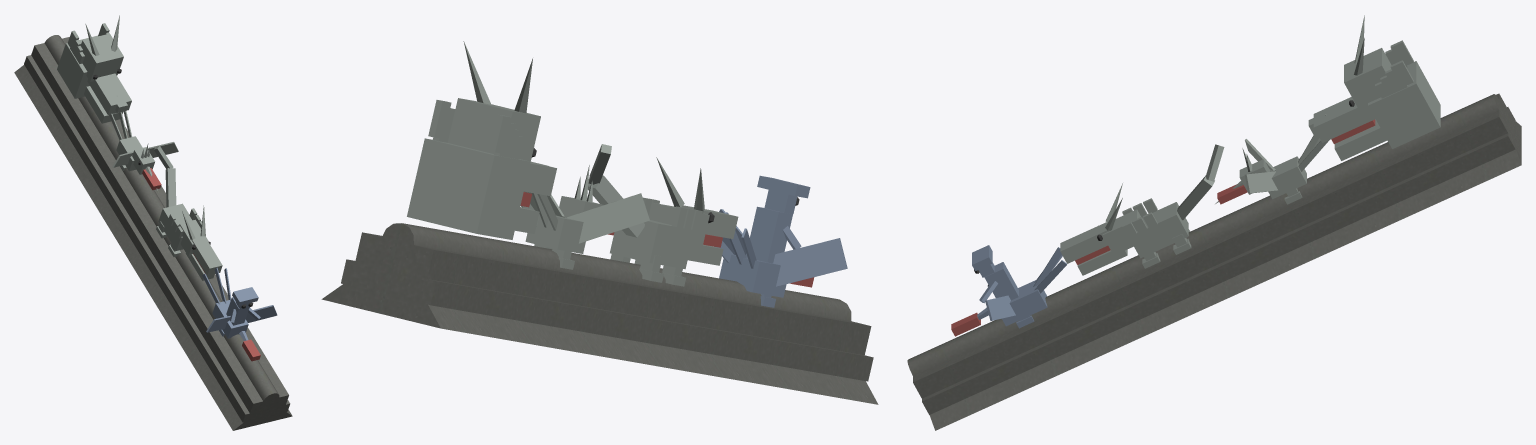
The model's file is ji-chuiji-zoushou.glb.
3 views of the same model, side by side, from view 1: azimuth 30°, elevation 25°; view 2: azimuth 150°, elevation 25°; view 3: azimuth 270°, elevation 25° (orthographic). The views are drawn at different scales.
Visible parts, largest first — view 1: chuiji, chuishou, zoushou_long, zoushou_xian, zoushou_feng, shou_mouth; view 2: chuiji, chuishou, zoushou_long, zoushou_xian, zoushou_feng; view 3: chuiji, chuishou, zoushou_long, zoushou_xian, zoushou_feng, shou_mouth.
Boxes of the visible parts, <box> form: chuiji: <box>14,35,292,430</box>; chuishou: <box>57,15,131,123</box>; zoushou_long: <box>153,145,222,280</box>; zoushou_xian: <box>202,267,277,340</box>; zoushou_feng: <box>109,95,178,192</box>; shou_mouth: <box>142,168,260,361</box>; chuiji: <box>321,223,878,404</box>; chuishou: <box>407,41,556,239</box>; zoushou_long: <box>588,144,738,286</box>; zoushou_xian: <box>714,175,847,307</box>; zoushou_feng: <box>521,165,649,269</box>; chuiji: <box>907,93,1521,430</box>; chuishou: <box>1308,15,1440,160</box>; zoushou_long: <box>1060,144,1224,275</box>; zoushou_xian: <box>972,245,1067,328</box>; zoushou_feng: <box>1215,114,1329,204</box>; shou_mouth: <box>951,119,1375,336</box>.
Bounding box in the file's own units: 0.2856 × 1.1 × 1.59.
Materials: 5 (1 with a texture image).
